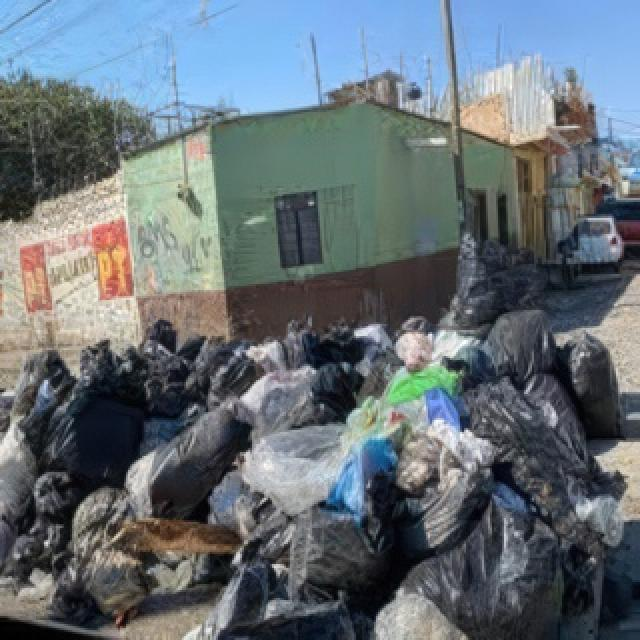high trash: (0, 232, 622, 640)
